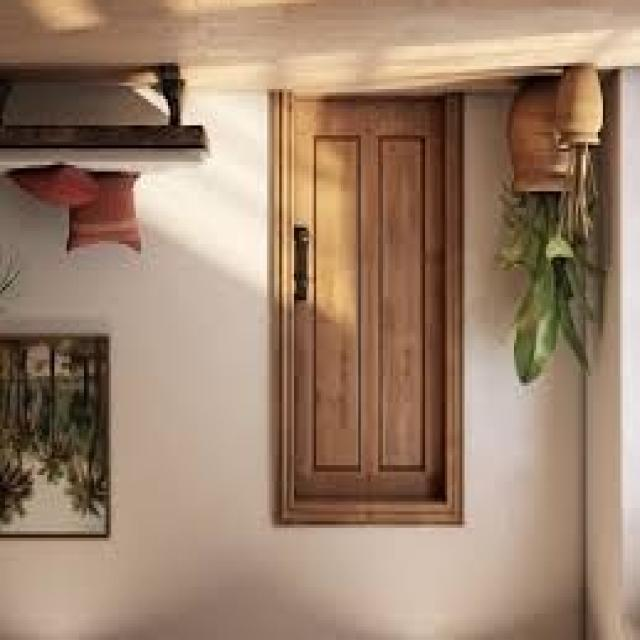door: (282, 92, 457, 524)
